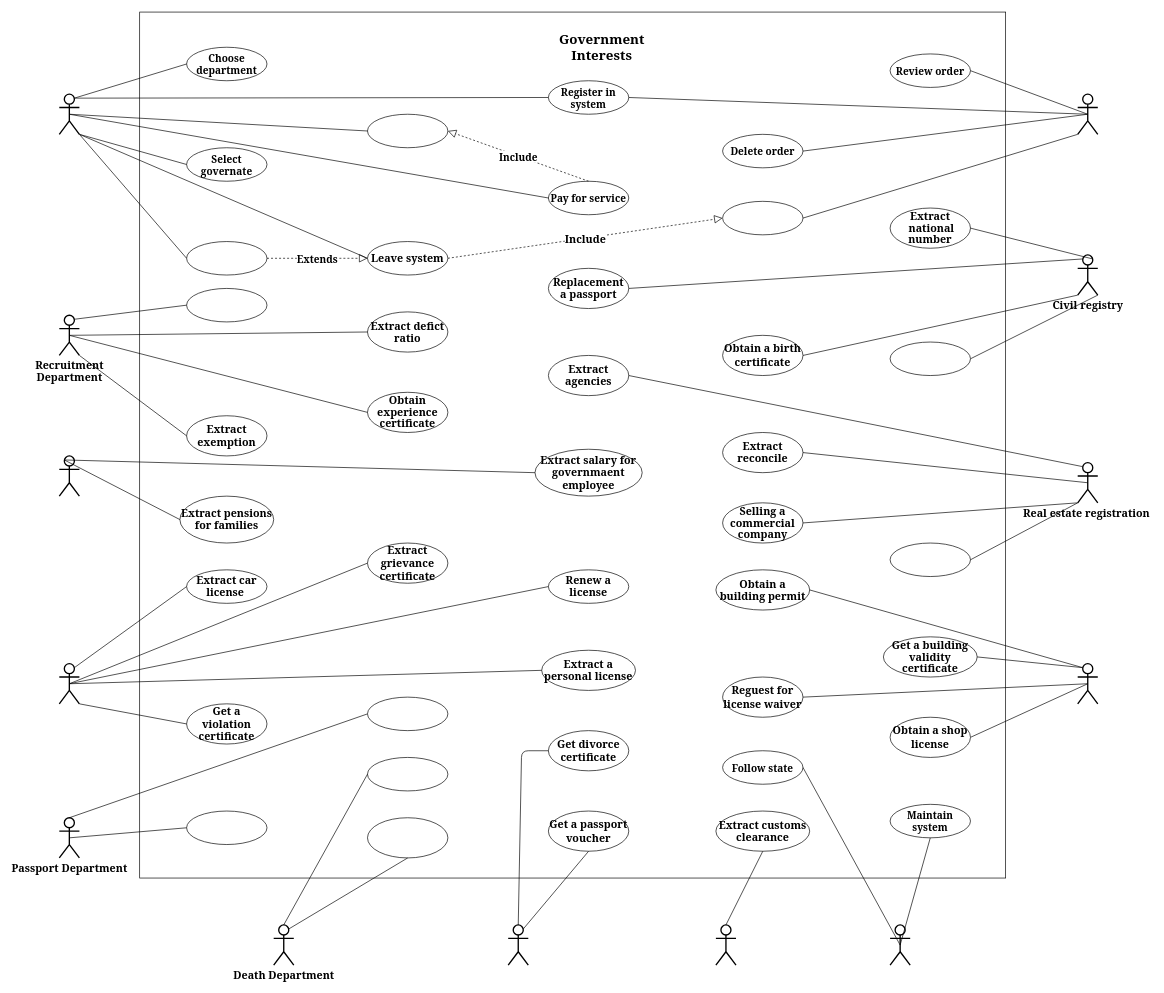
This 1164x993 diagram has some shape labels left out. The shapes that lost their labels are listed below. From the top down, each one's centre as x and y in pixels, then its label:
At point 69,114: "Citizen".
At point 407,131: "Choose service".
At point 1087,114: "Admin".
At point 762,218: "Delete record".
At point 226,258: "Cancel order".
At point 226,305: "Apply for conscription".
At point 929,358: "Gevernment transfers".
At point 69,475: "Salaries and Pensions Department".
At point 929,559: "Selling a residential unit".
At point 69,683: "Traffic Department".
At point 1087,683: "Licensing Department".
At point 407,713: "Give citizenship".
At point 407,774: "Get a death certificate".
At point 226,827: "Give a visa".
At point 407,837: "Obtain a burial permit".
At point 518,944: "Marriag Department".
At point 725,944: "Customs Department".
At point 900,944: "IT Stuff".
